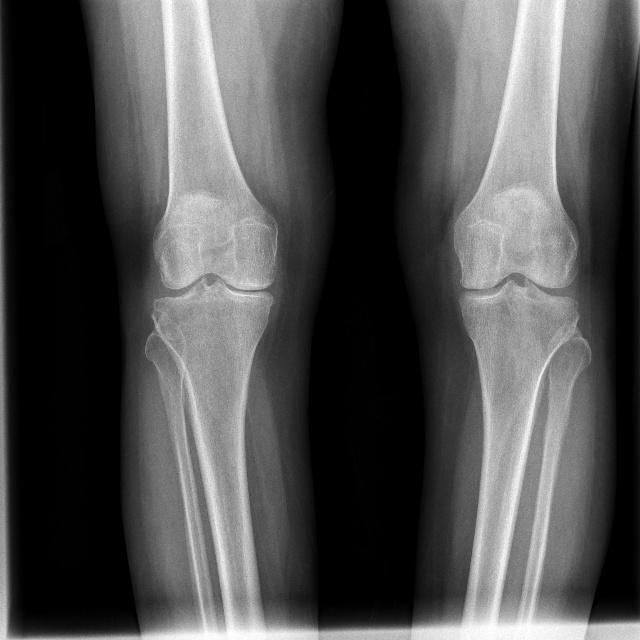Knee: (449, 214, 580, 350), (147, 219, 280, 349)
